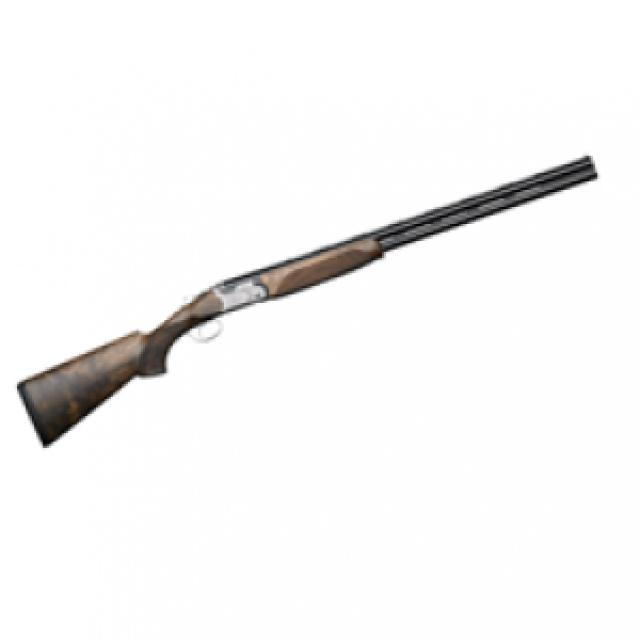rifle: (7, 137, 608, 459)
